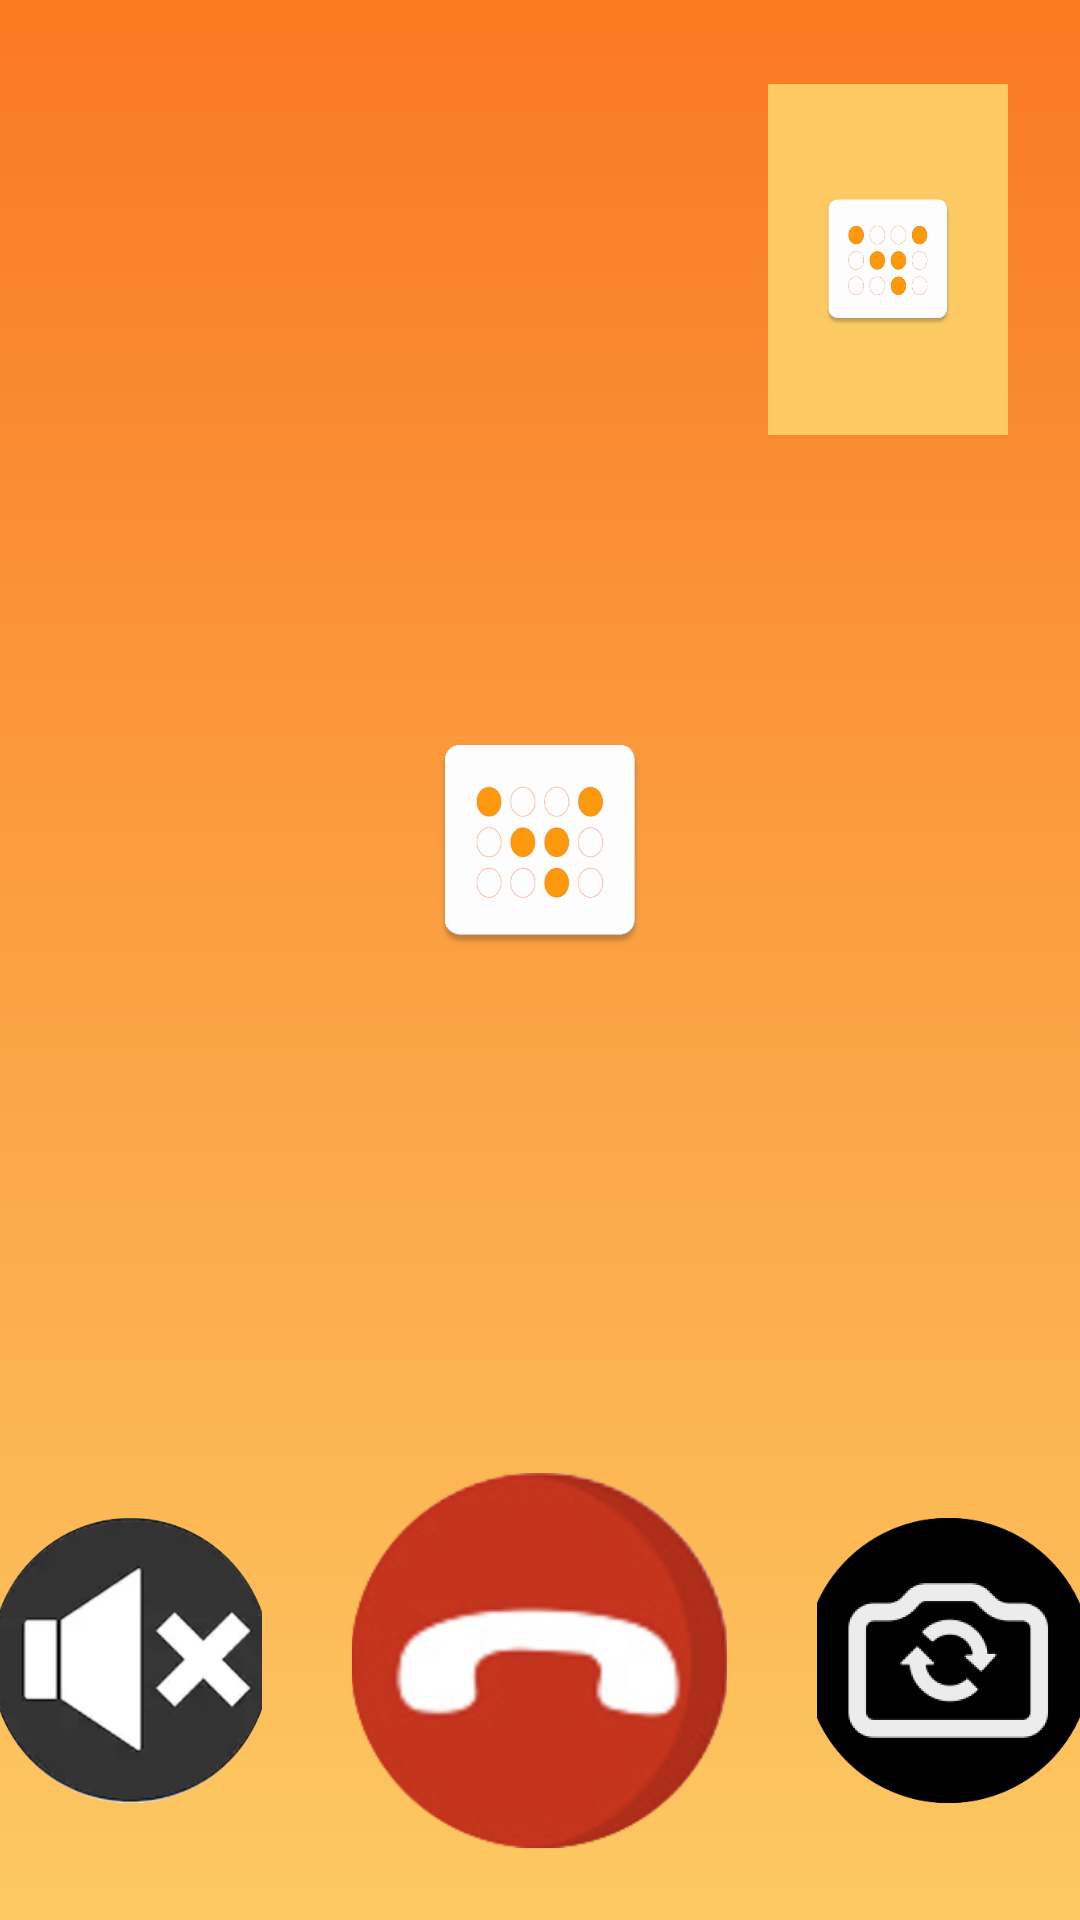

Icon click points for this 1080*1920 phone screenshot, format [x,y]:
mute: [131,1660]
switch camera: [948,1660]
